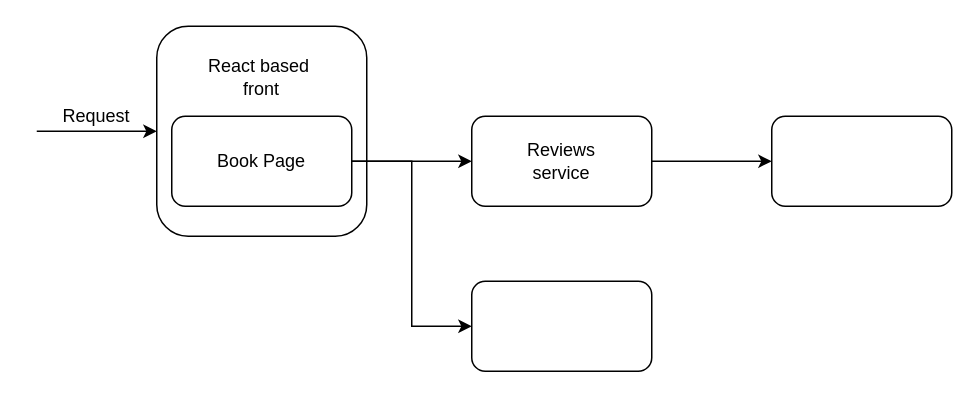
The diagram is 978 pixels wide and 398 high, and some of its shapes have lost their labels. The shapes that lost their labels are listed below. From the top down, each one's centre as x and y in pixels, then its label:
the point at 861,160: Rating service
the point at 561,325: BookDetails service
